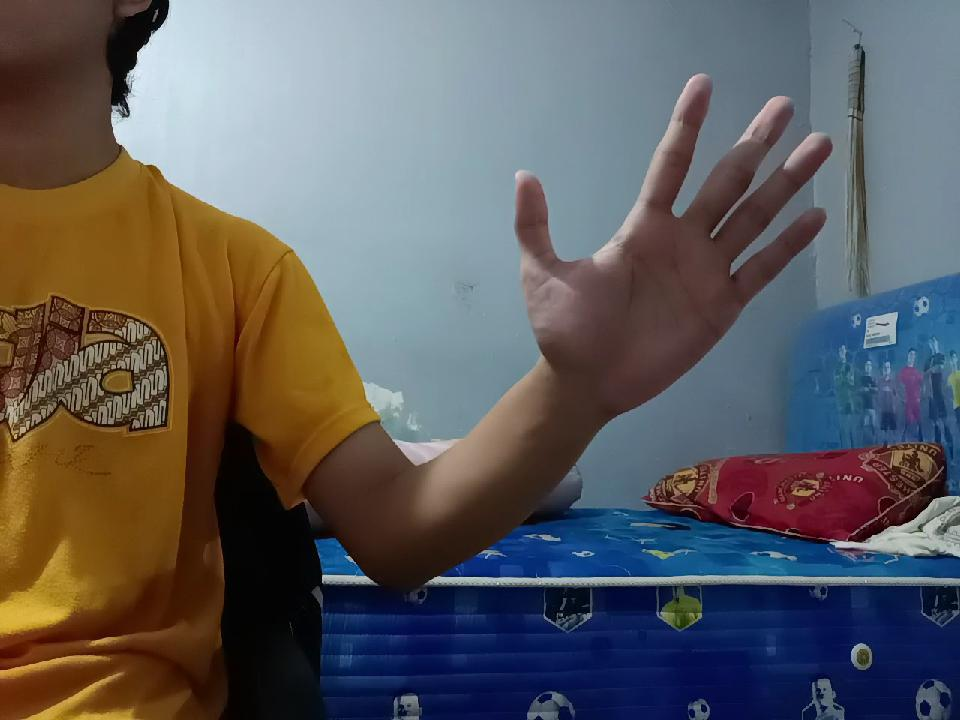paper: (508, 74, 808, 400)
